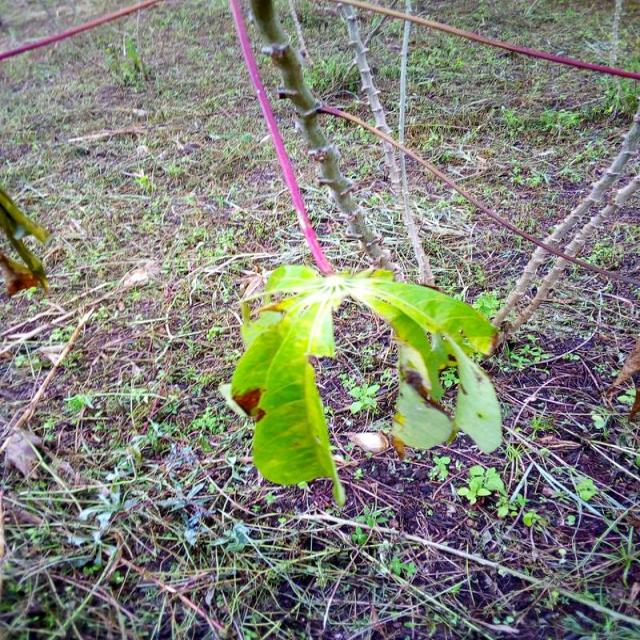cassava leaf: (225, 261, 502, 506), (226, 271, 346, 507)
